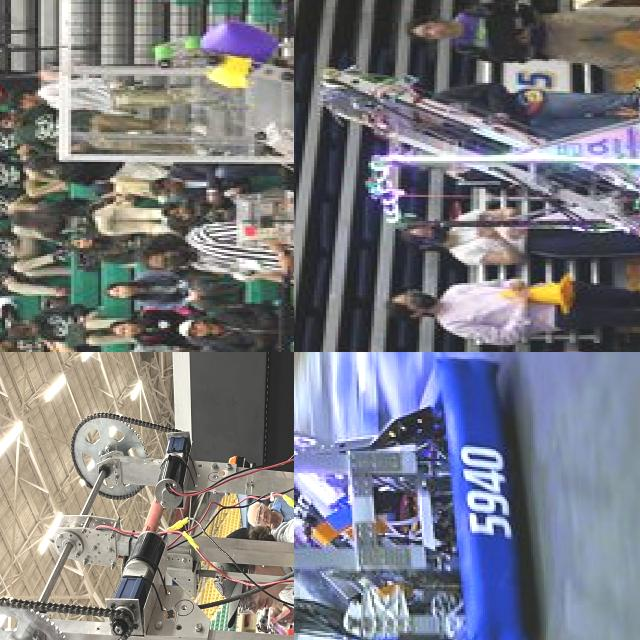FRC-Robots: (301, 14, 640, 294), (0, 352, 294, 640), (294, 352, 542, 640), (166, 18, 294, 352)
